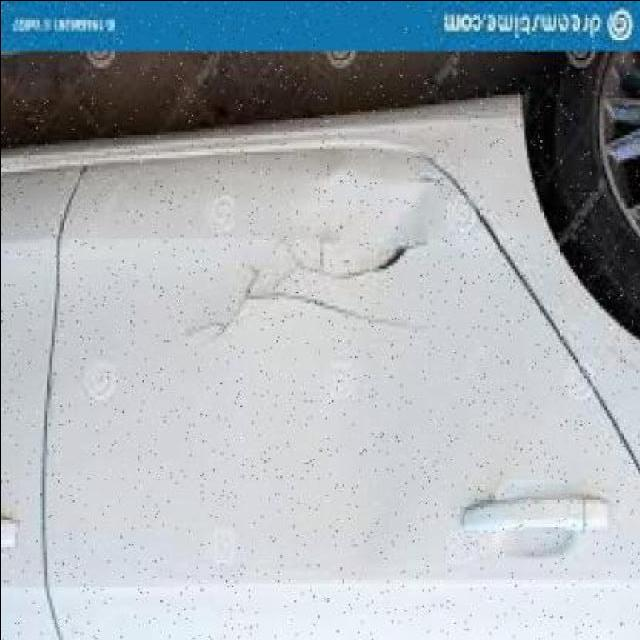doorouter-dent: (67, 160, 639, 640)
